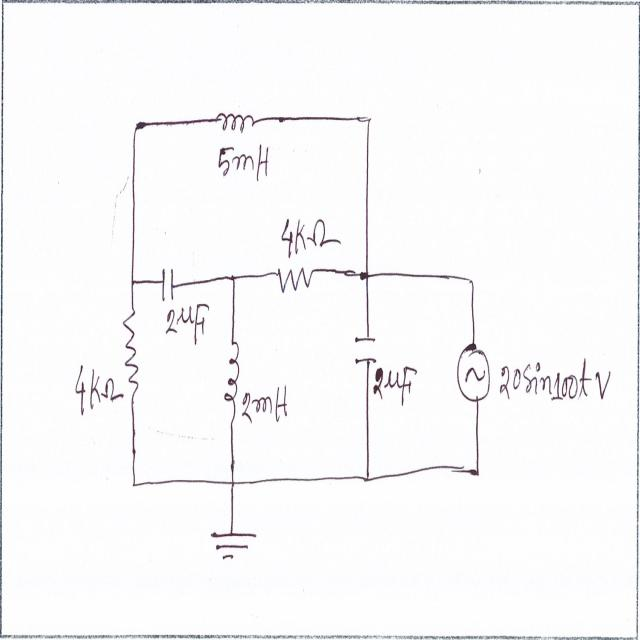ac_current: (456, 339, 491, 410)
capacitor: (352, 328, 378, 368), (160, 265, 176, 304)
ground: (207, 526, 262, 564)
inductor: (222, 337, 242, 423), (210, 108, 259, 140)
resistor: (119, 308, 142, 396), (276, 259, 316, 304)
